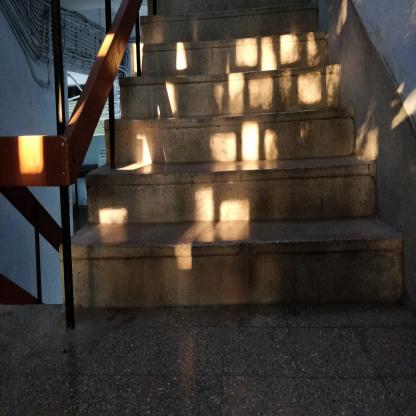stairs: (144, 48, 327, 337)
